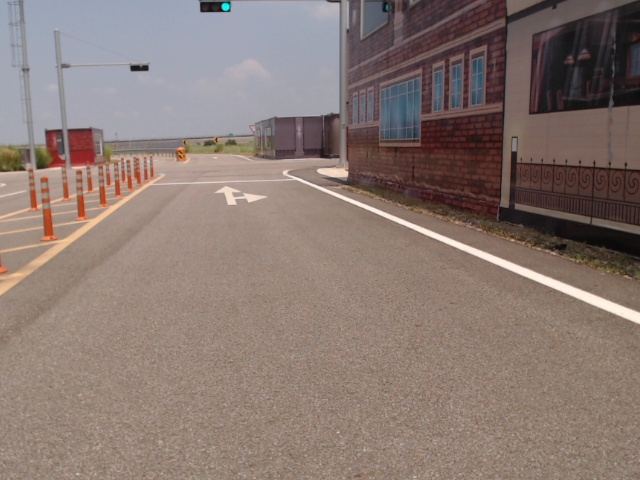green_3: (199, 1, 232, 12)
